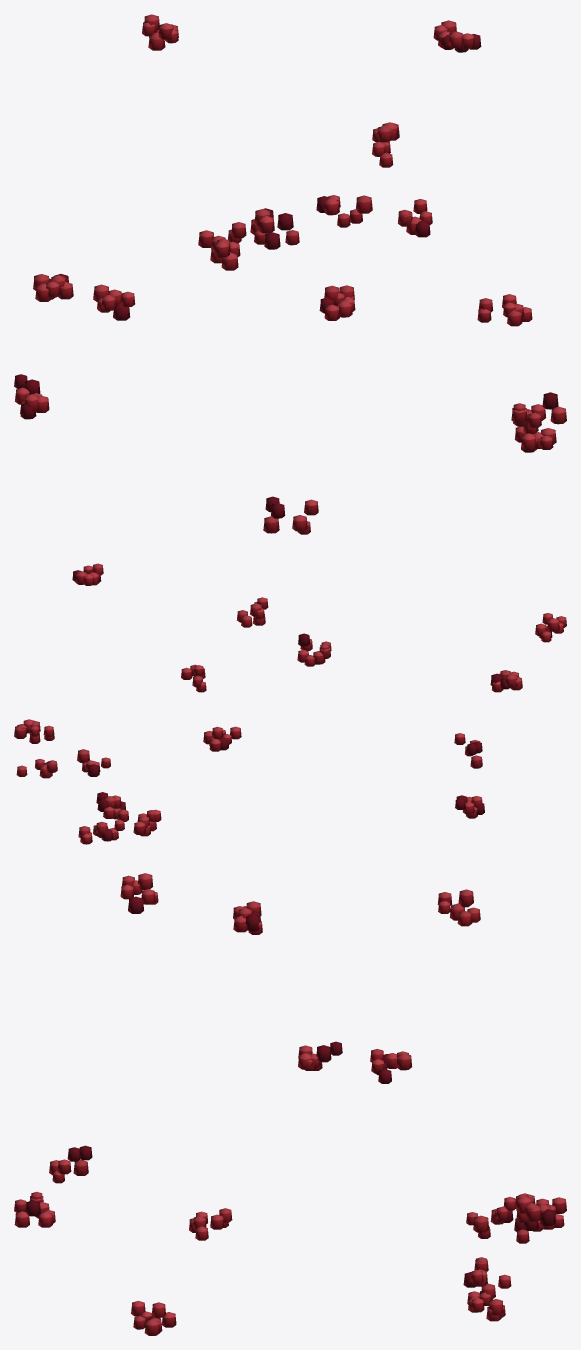
File: berry-bush-berries.glb
3 renders of one model, top to bottom at view 1: azimuth 30°, elevation 25°; view 2: azimuth 150°, elevation 25°; view 3: azimuth 270°, elevation 25°, orthographic. The views are drawn at different scales.
Visible parts, largest first — view 1: berry-bush-berries; view 2: berry-bush-berries; view 3: berry-bush-berries.
Boxes of the visible parts, left/top/right/bottom form: berry-bush-berries: left=14, top=14, right=566, bottom=534; berry-bush-berries: left=14, top=563, right=566, bottom=844; berry-bush-berries: left=14, top=873, right=566, bottom=1335.
Bounding box in the file's own units: 0.9973 × 0.6629 × 0.9643.
